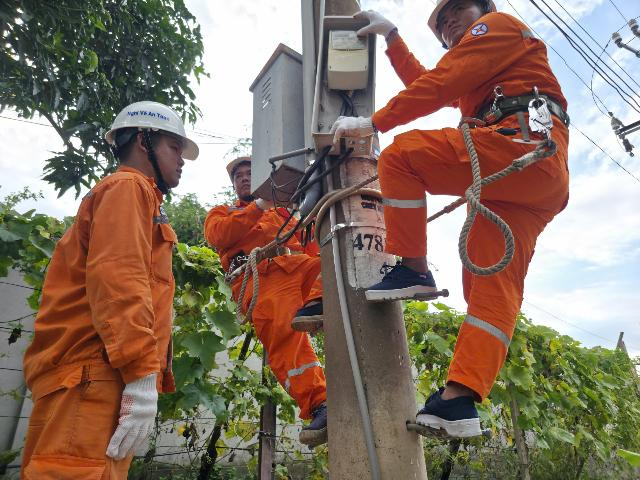gloves: (100, 364, 163, 471), (331, 112, 392, 140), (249, 193, 284, 213)
harness: (447, 81, 583, 139), (207, 238, 324, 271)
helmet: (102, 92, 218, 173), (407, 0, 505, 30), (217, 140, 264, 185)
shoes: (396, 376, 494, 443), (362, 243, 451, 316), (298, 389, 341, 451), (294, 289, 344, 338)
